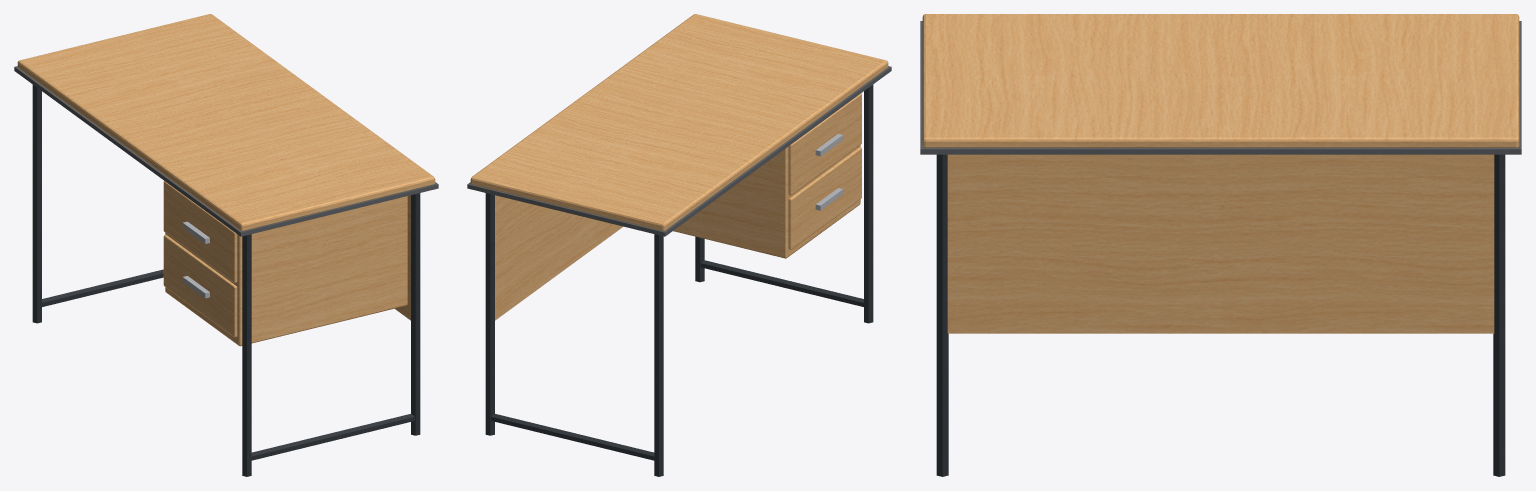
File: mesa_professor_realista.glb
3 views of the same model, side by side, from view 1: azimuth 30°, elevation 25°; view 2: azimuth 150°, elevation 25°; view 3: azimuth 270°, elevation 25° (orthographic). The views are drawn at different scales.
Parts seen in each view (by area): view 1: Mesa_Professor_PBR; view 2: Mesa_Professor_PBR; view 3: Mesa_Professor_PBR.
Part boxes in pixels (bbox=[...]): Mesa_Professor_PBR: bbox=[14, 14, 438, 476]; Mesa_Professor_PBR: bbox=[467, 14, 891, 476]; Mesa_Professor_PBR: bbox=[920, 14, 1521, 476].
Size of the model in its own units: 0.61 by 0.7625 by 1.21.
Materials: 1 (1 with a texture image).
